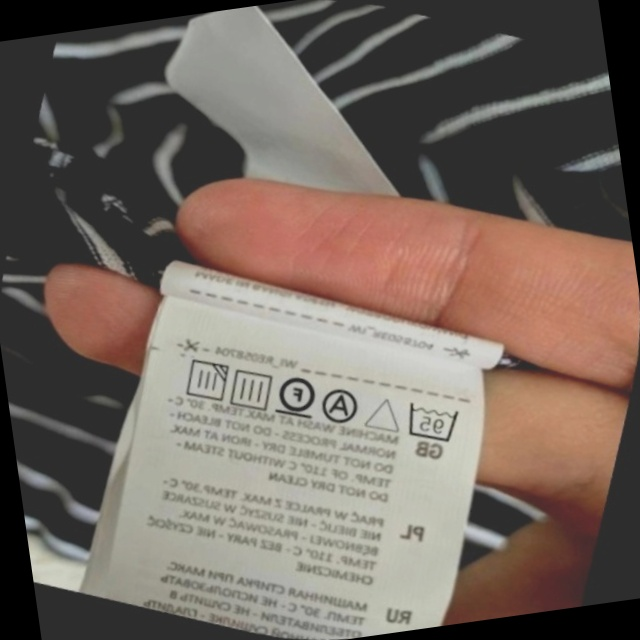95C: (392, 387, 471, 456)
bleach: (356, 383, 413, 444)
drip_dry: (218, 356, 285, 422)
drip_dry_in_shade: (170, 346, 239, 414)
dry_clean: (312, 377, 371, 435)
dry_clean_petrol_only: (264, 361, 328, 429)
